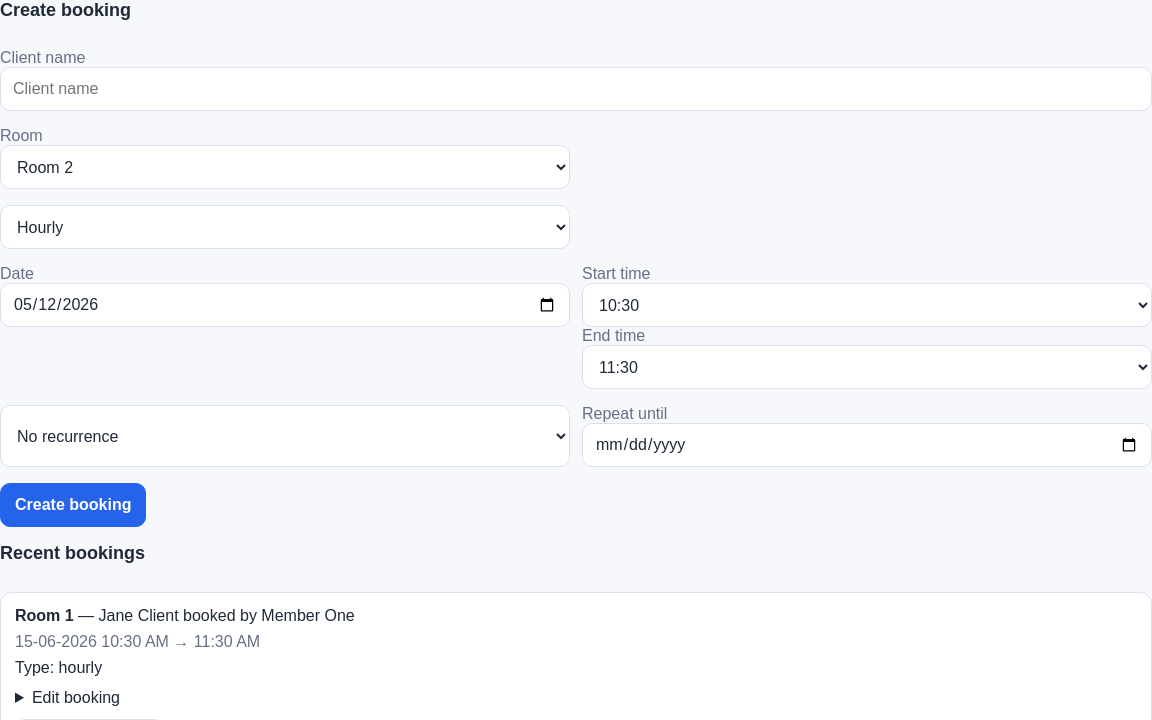
Test: BookingForms › moves the edit end time one hour after start time
The image size is (1152, 720).
Click the heading "Edit booking": (76,698) top-left (32, 689), bottom-right (120, 706)
(page scrolled)
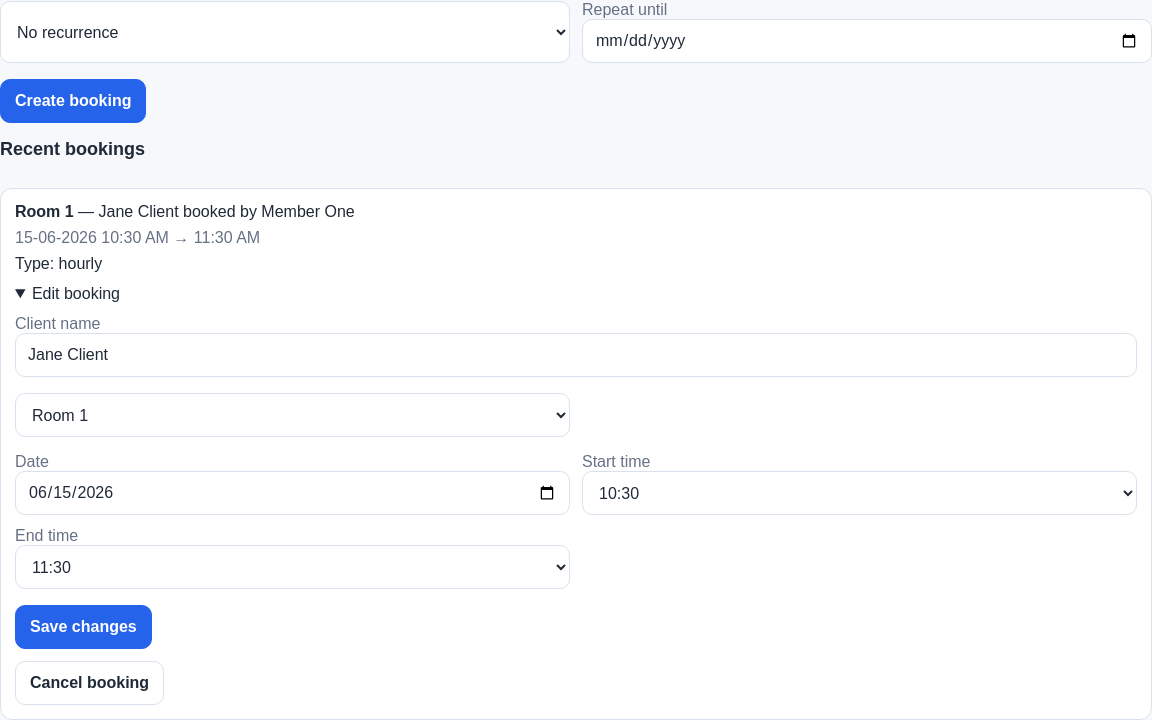
Select "16:00" in the 3rd dropdown named "startTime": (860,493) top-left (582, 471), bottom-right (1137, 515)
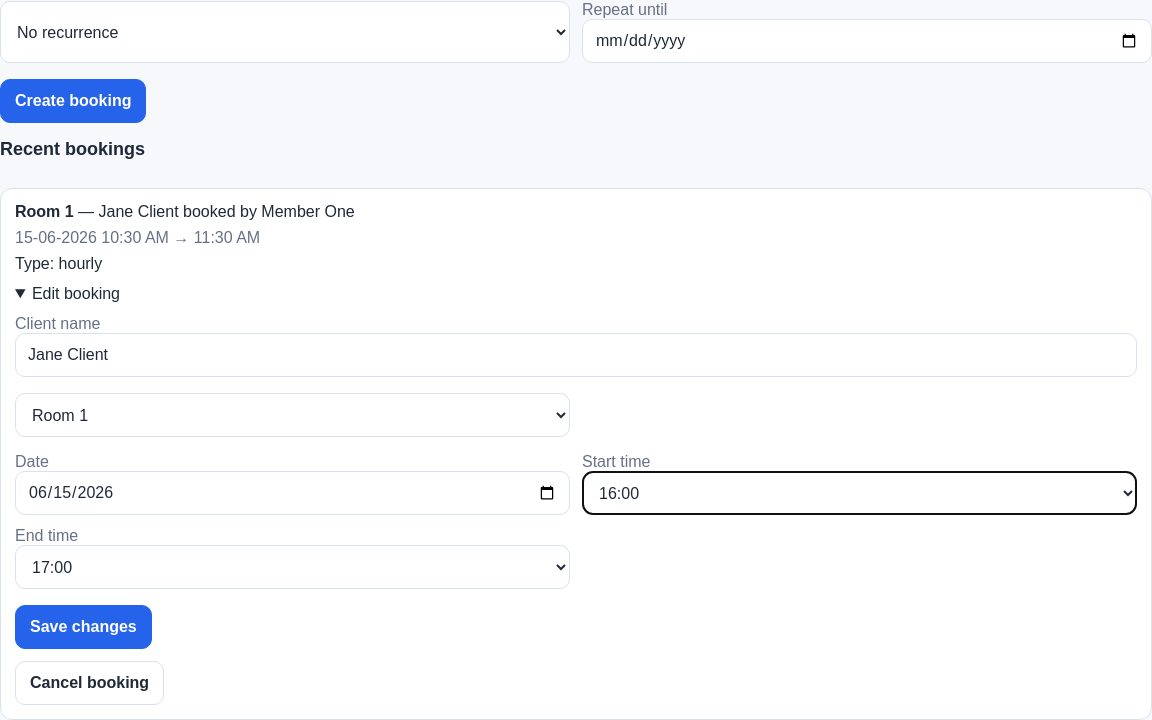
Now the 4th dropdown named "endTime" shows "17:00", box top-left (15, 545), bottom-right (570, 589)
